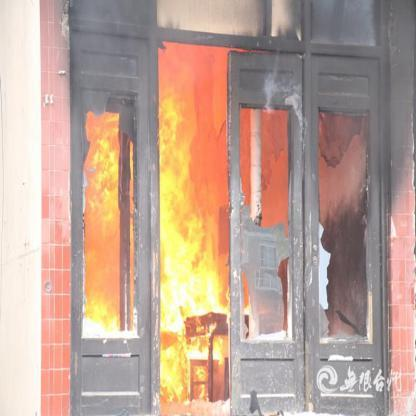fire: (83, 110, 120, 235), (156, 97, 191, 209), (159, 208, 186, 334), (186, 217, 220, 315), (160, 335, 190, 403), (84, 292, 121, 335), (210, 334, 226, 362), (190, 338, 209, 358), (193, 384, 209, 400), (192, 365, 207, 381)
